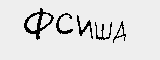Д: (110, 20, 128, 44)
И: (76, 16, 94, 41)
С: (54, 11, 76, 38)
Ф: (22, 7, 53, 40)
Ш: (93, 19, 113, 41)
